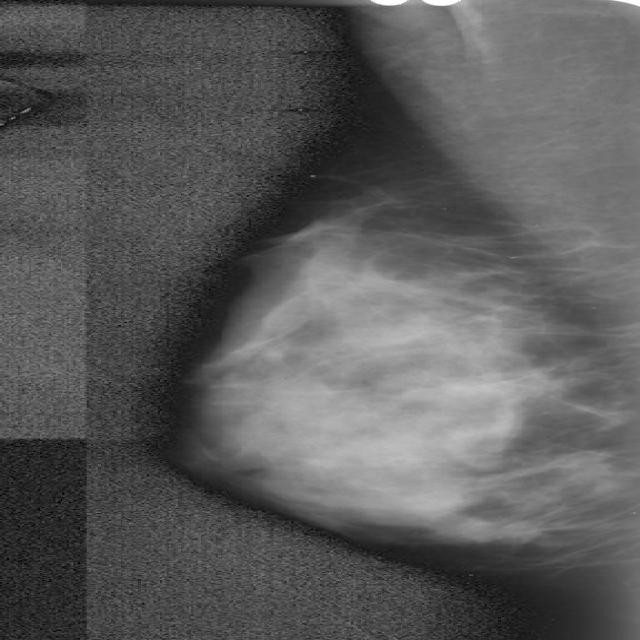tumour: (442, 518, 538, 542)
